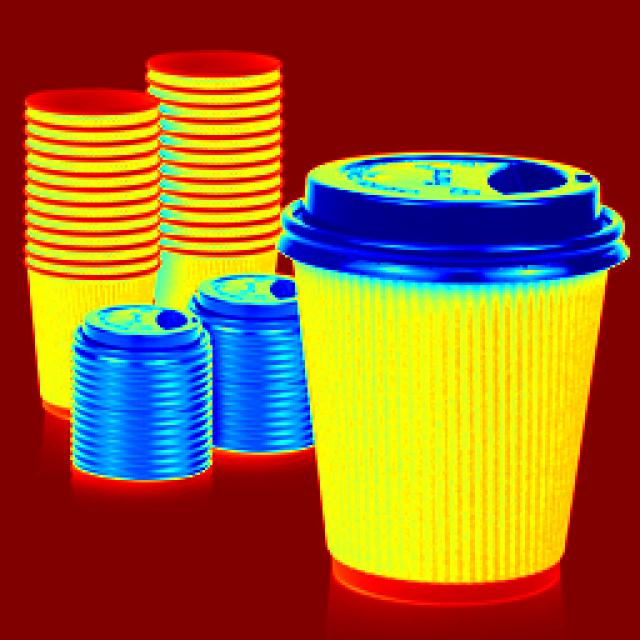Paper Cups: (287, 145, 607, 621), (12, 75, 150, 306), (76, 300, 213, 498), (151, 56, 286, 248), (202, 281, 324, 468)
